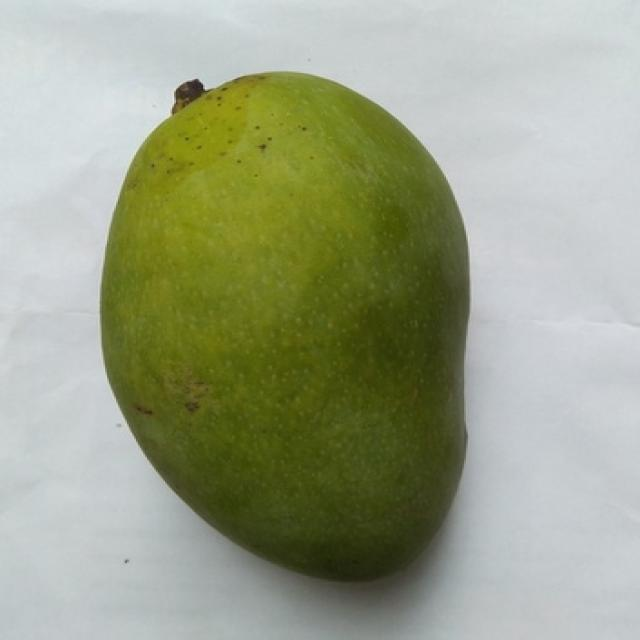Mango: (102, 74, 468, 579)
